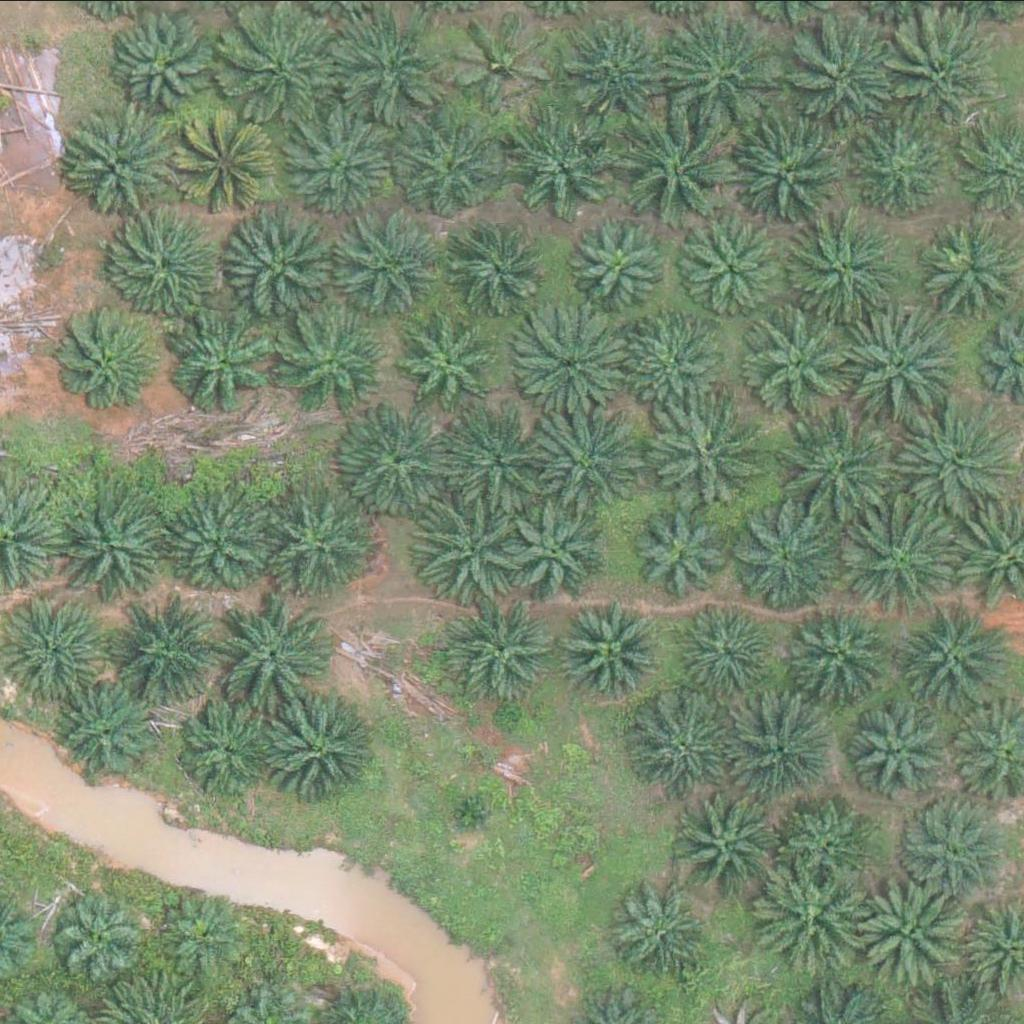Kelapa_Sawit: (729, 114, 843, 227), (513, 307, 627, 420), (529, 398, 643, 511), (906, 404, 1020, 517), (846, 507, 960, 620), (156, 481, 270, 594), (899, 604, 1013, 717), (61, 490, 175, 603), (783, 20, 896, 133), (554, 17, 667, 130), (334, 13, 447, 126), (222, 9, 335, 122), (623, 115, 736, 228), (229, 206, 342, 319), (787, 212, 900, 325), (171, 304, 284, 417), (748, 302, 861, 415), (647, 393, 760, 506), (268, 693, 381, 806), (726, 692, 839, 805), (110, 10, 223, 123), (668, 18, 782, 130), (276, 302, 390, 414), (730, 501, 844, 613), (48, 304, 162, 416), (105, 594, 219, 706), (888, 18, 1001, 130), (502, 110, 615, 222), (845, 301, 958, 413), (351, 401, 464, 513), (780, 412, 893, 524), (259, 490, 372, 602), (407, 490, 520, 602), (216, 602, 329, 714), (670, 788, 783, 900), (753, 865, 866, 977), (851, 878, 964, 990), (67, 108, 180, 220), (111, 218, 224, 330), (288, 121, 389, 221), (400, 119, 501, 219), (853, 115, 954, 215), (345, 213, 446, 313), (685, 218, 786, 318), (400, 312, 501, 412), (635, 501, 736, 601), (505, 500, 606, 600), (178, 699, 279, 799), (856, 699, 957, 799), (900, 798, 1001, 898), (611, 884, 712, 984), (58, 680, 159, 780), (450, 10, 550, 110), (182, 115, 282, 215), (459, 221, 559, 321), (632, 310, 732, 410), (448, 410, 548, 510), (456, 599, 556, 699), (565, 598, 665, 698), (681, 598, 781, 698), (797, 602, 897, 702), (641, 696, 741, 796), (579, 220, 668, 308), (784, 800, 872, 888), (155, 889, 243, 977), (63, 892, 151, 979), (443, 791, 494, 841)
